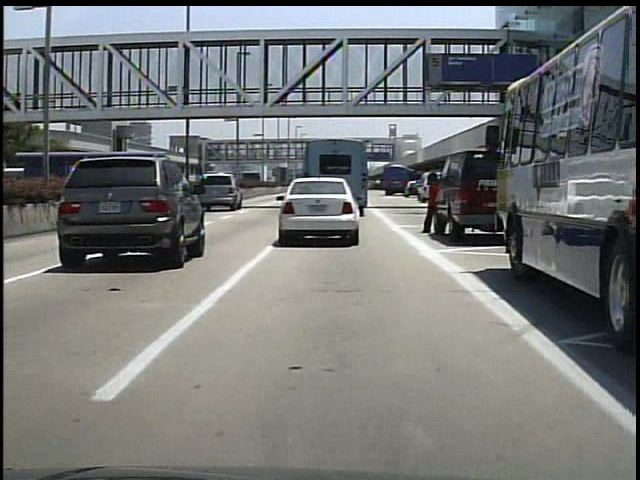person: (422, 172, 446, 237)
